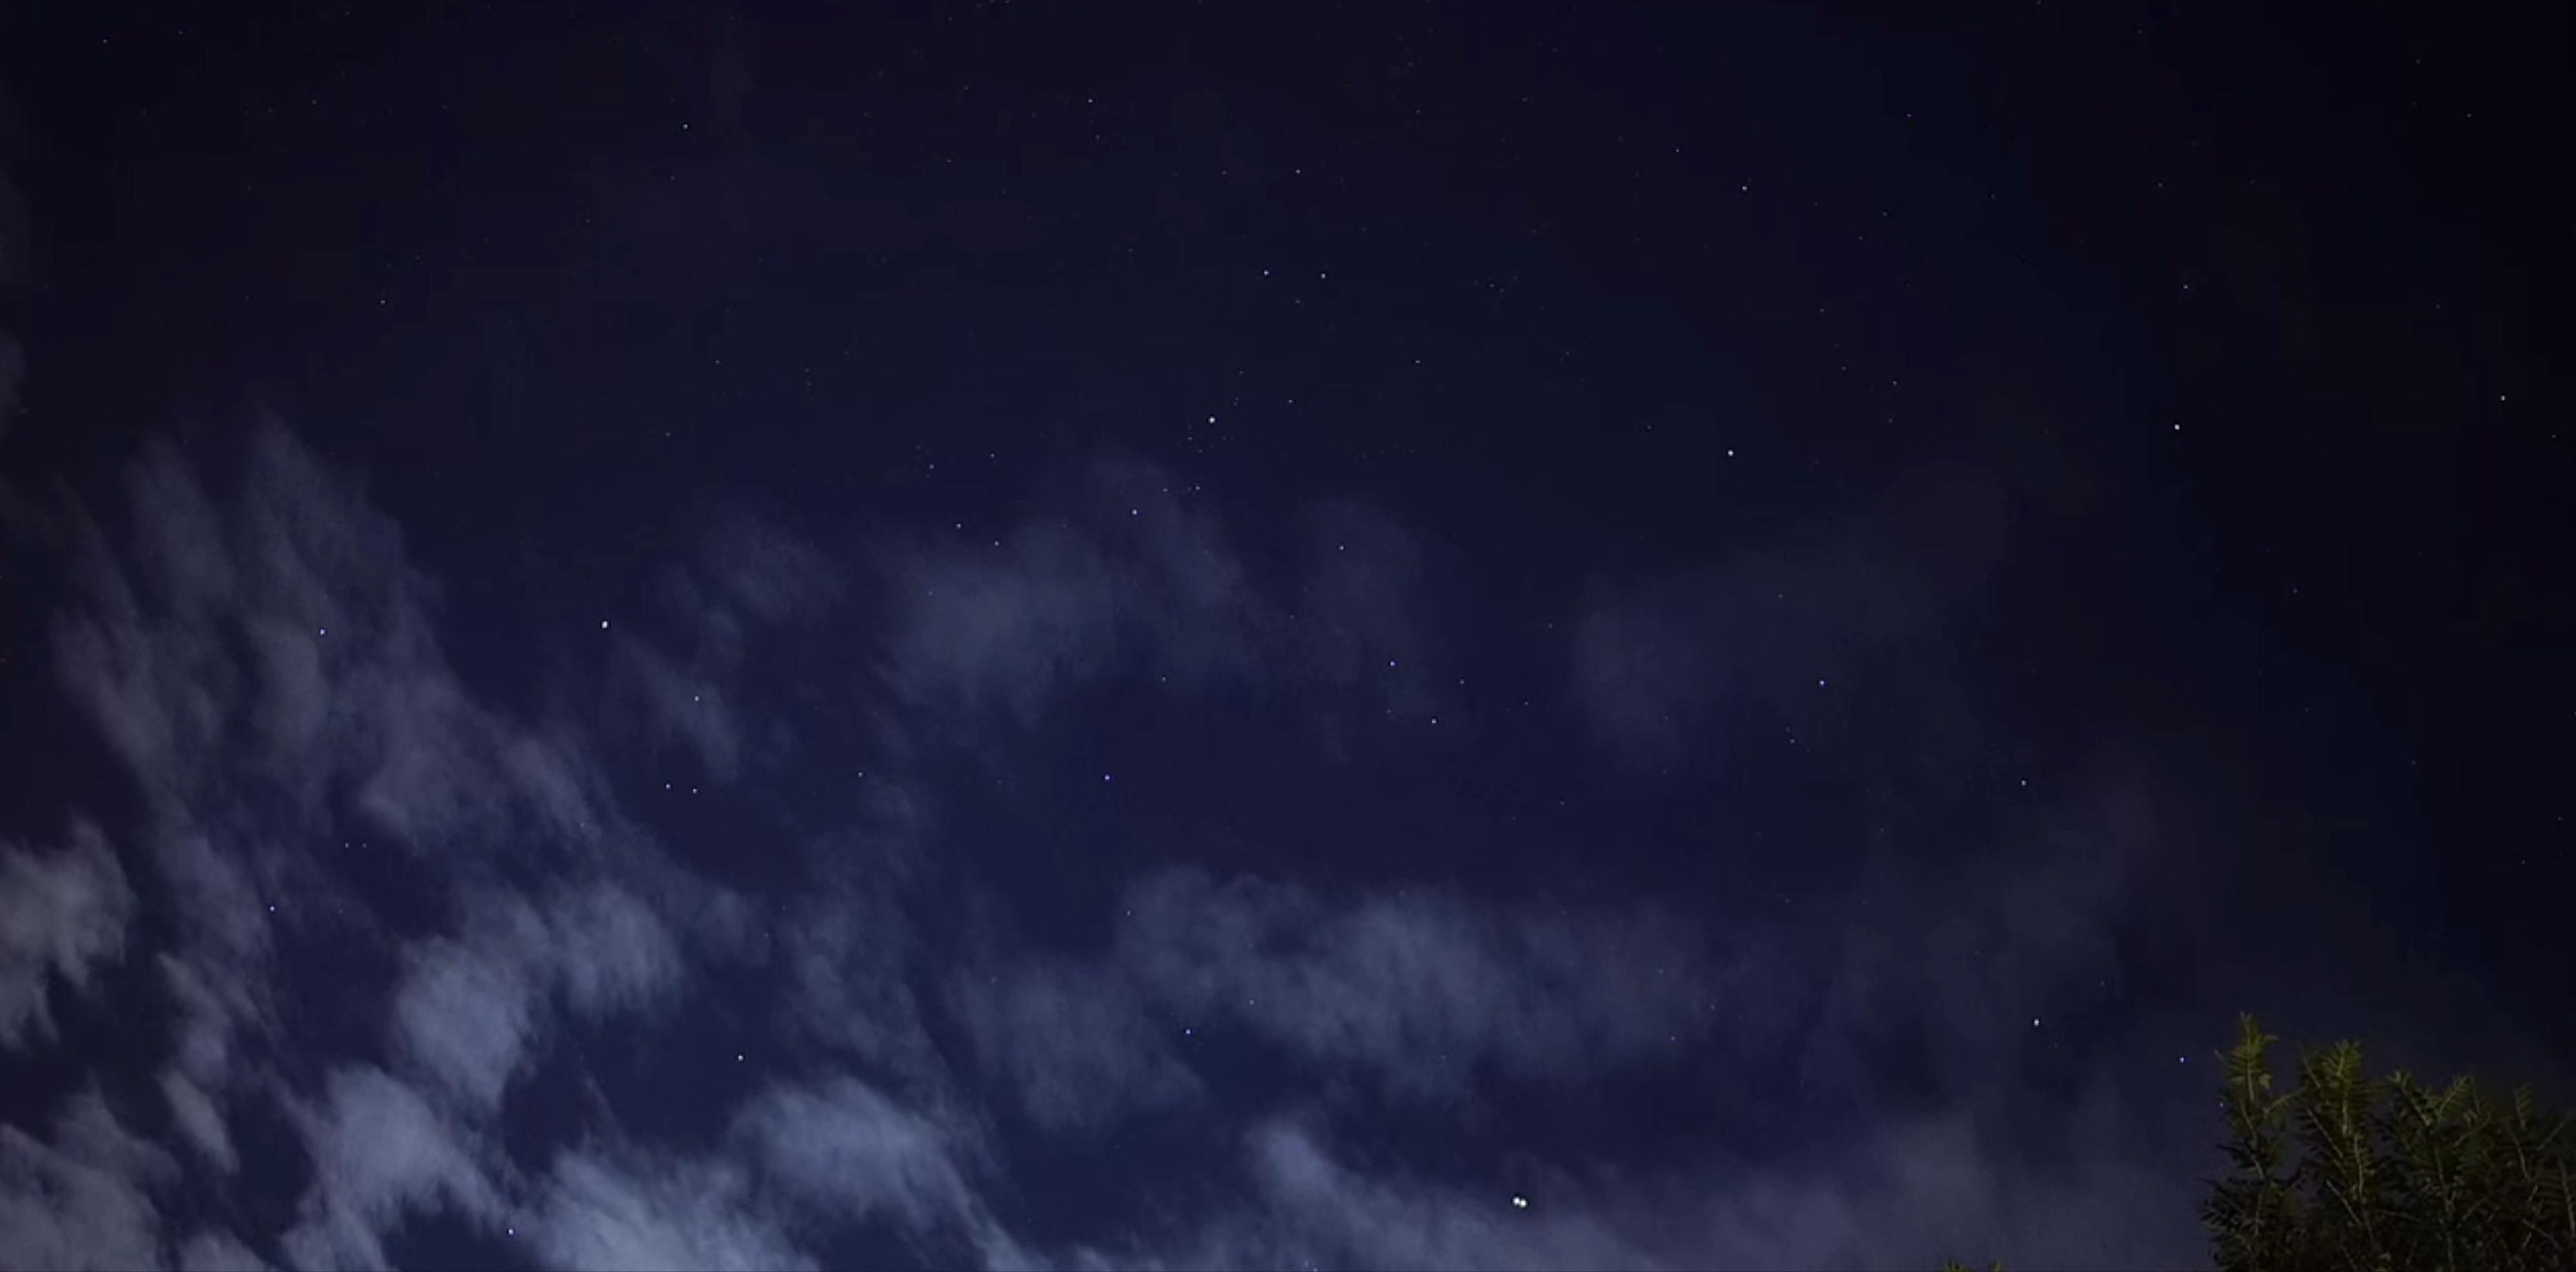Plane: (1506, 1182, 1541, 1218)
